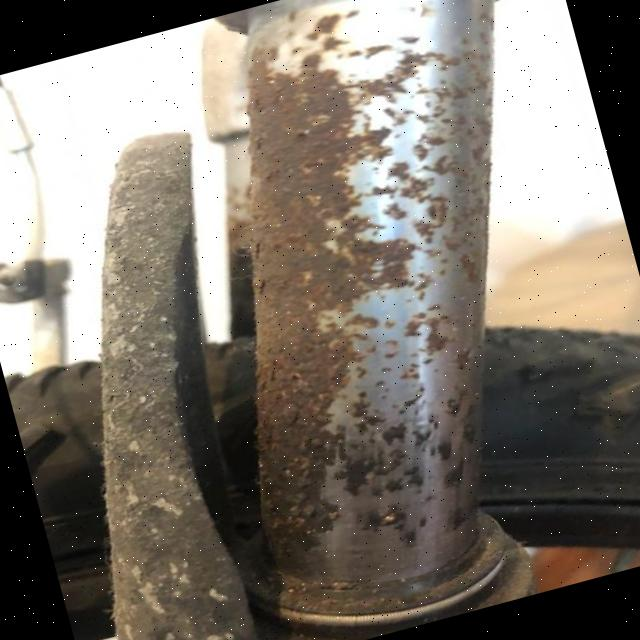Corrosion: (124, 0, 636, 632), (0, 121, 328, 640)
